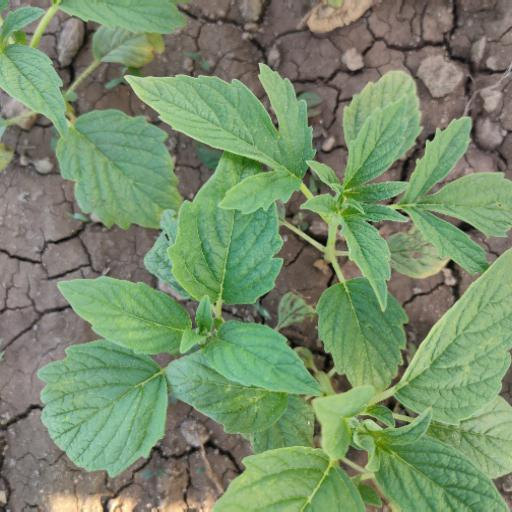crop: (52, 93, 504, 512)
